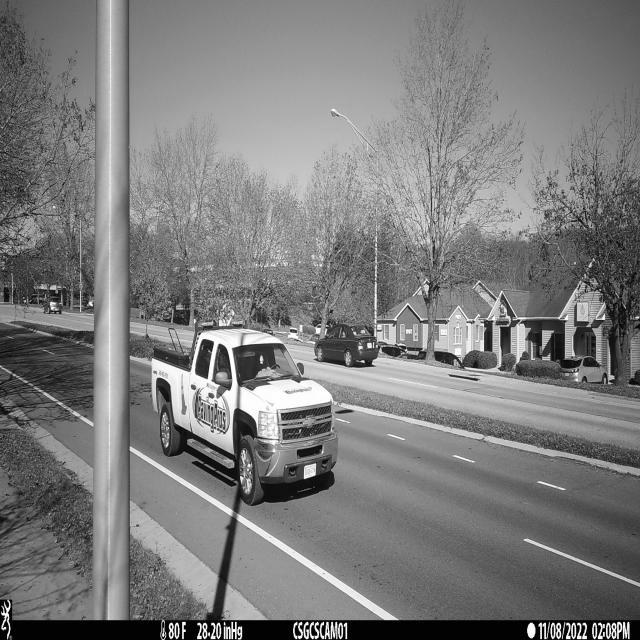Pickup: (152, 328, 338, 506)
